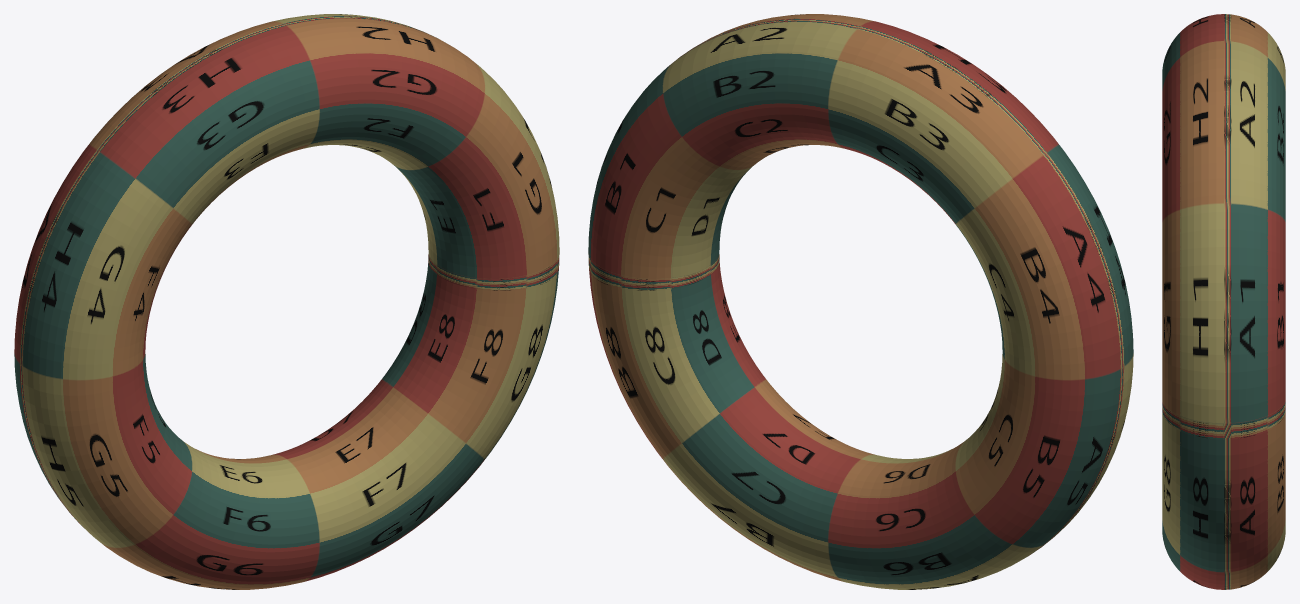
The model's file is texture_torus_R9_r7.glb.
The picture shows the model from 3 angles, left to right: view 1: azimuth 30°, elevation 25°; view 2: azimuth 150°, elevation 25°; view 3: azimuth 270°, elevation 25°; orthographic projection. The views are drawn at different scales.
Parts seen in each view (by area): view 1: world; view 2: world; view 3: world.
Part boxes in pixels (x1=…): world: x1=14, y1=14, x2=559, y2=589; world: x1=588, y1=14, x2=1133, y2=589; world: x1=1162, y1=14, x2=1285, y2=589.
Size of the model in its own units: 38.22 by 38.22 by 8.21.
1 material, 1 textured.
